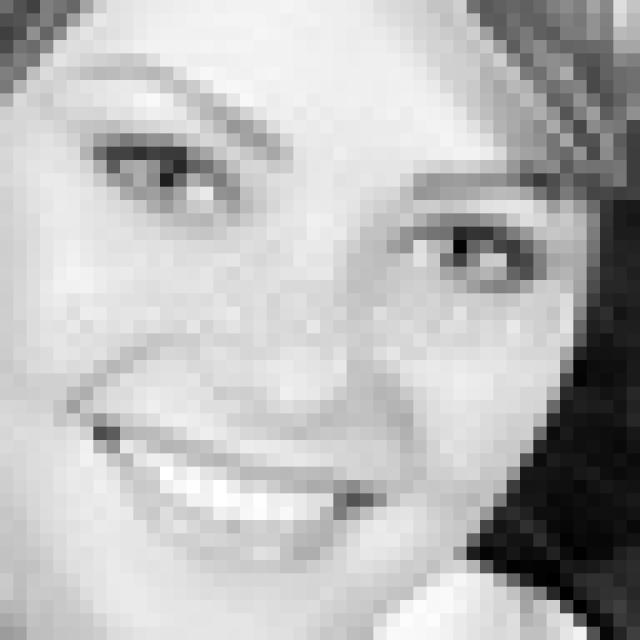happy: (49, 58, 572, 577)
